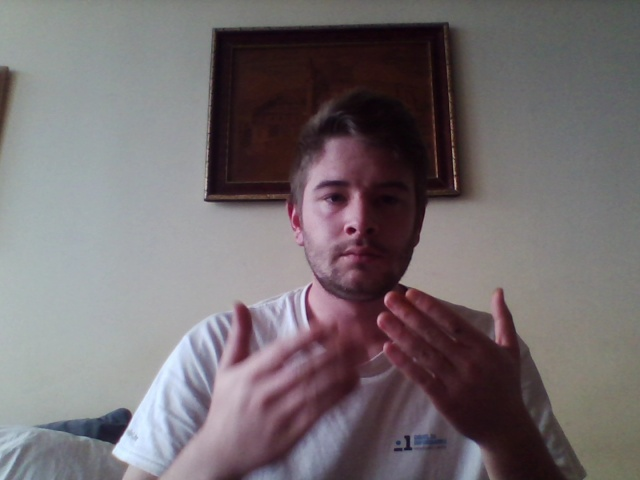hvala: (204, 285, 521, 467)
